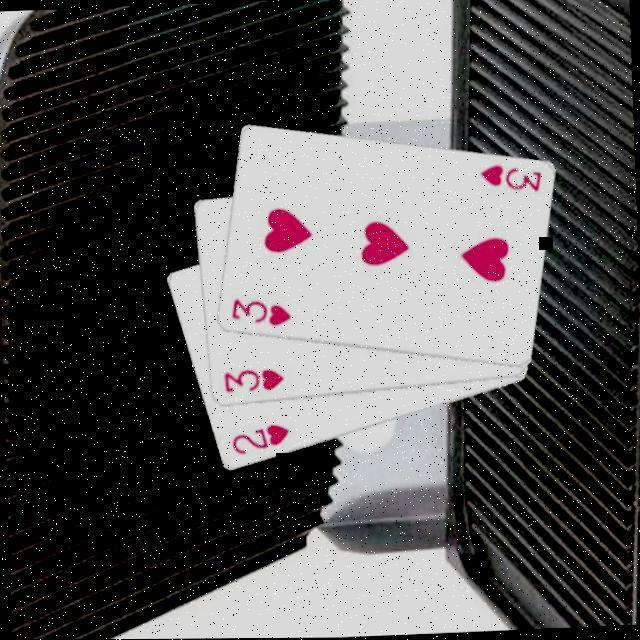2H: (225, 421, 290, 459)
3H: (225, 294, 292, 332), (475, 162, 542, 198), (217, 367, 284, 397)
